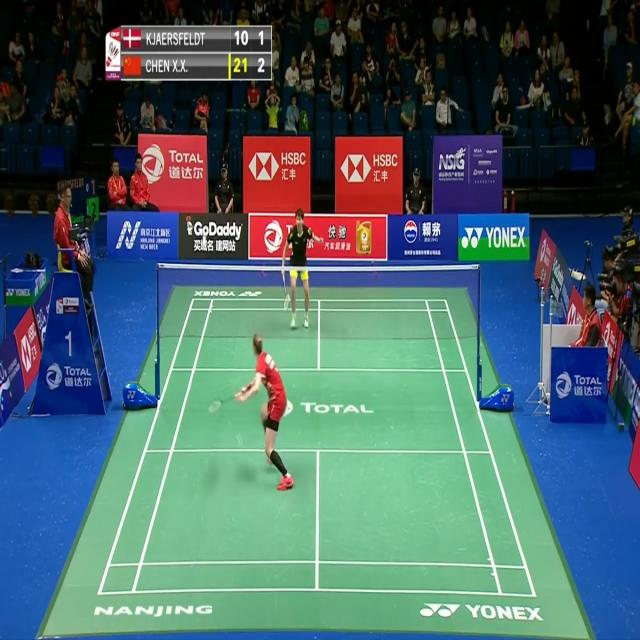Player1: (206, 332, 300, 495)
Player2: (278, 208, 328, 337)
